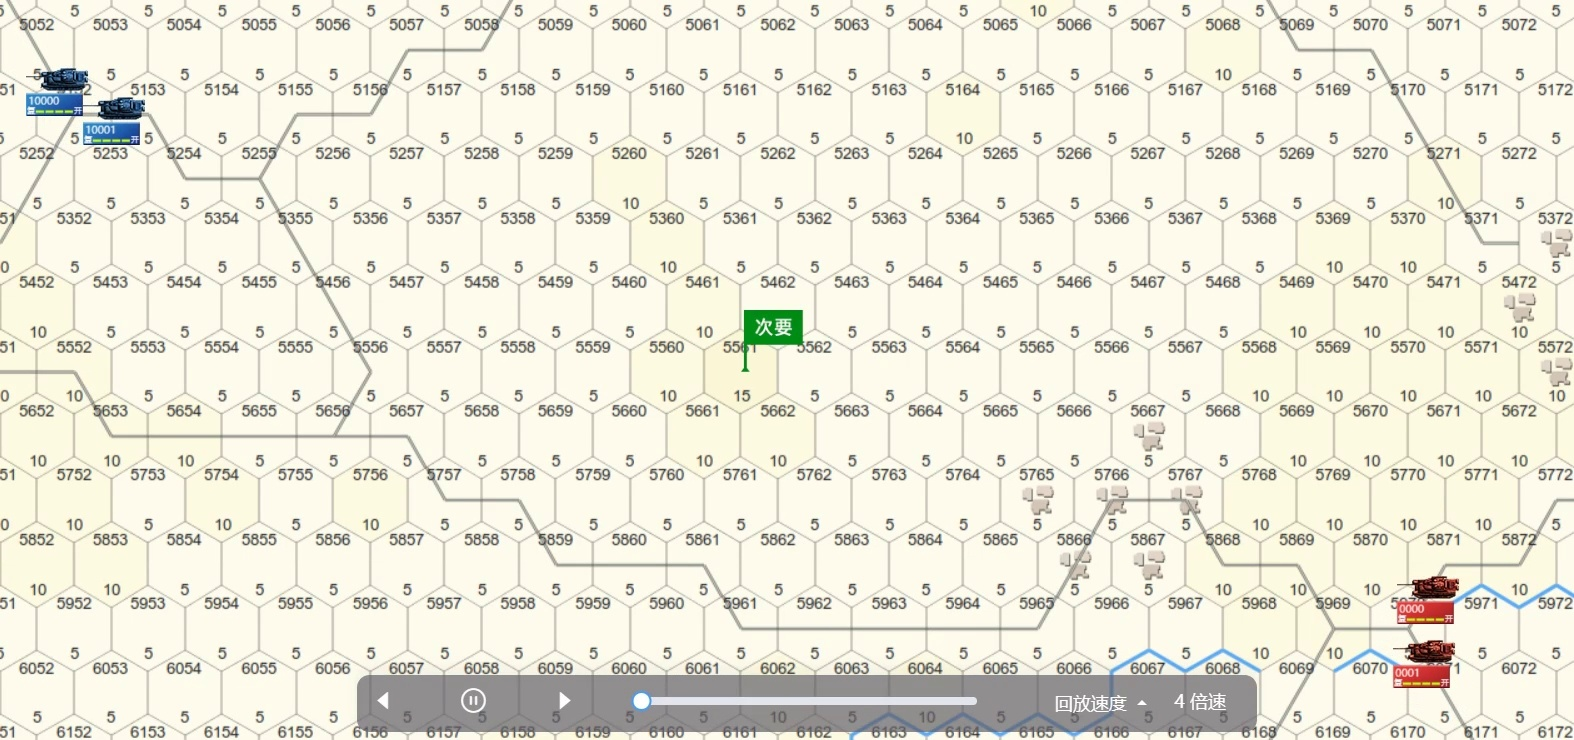blue_tank: (36, 62, 85, 116), (92, 101, 145, 151)
red_tank: (1399, 569, 1457, 616), (1400, 643, 1454, 688)
